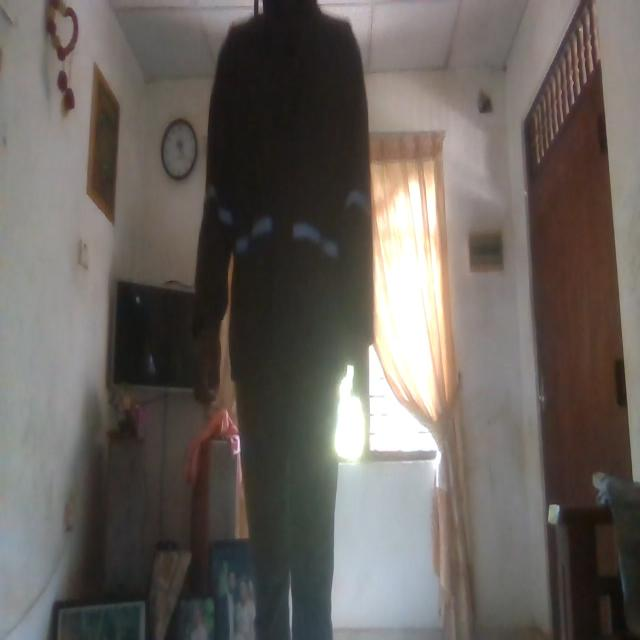Jacket_Wearer: (200, 11, 373, 380)
Person: (192, 1, 378, 640)
